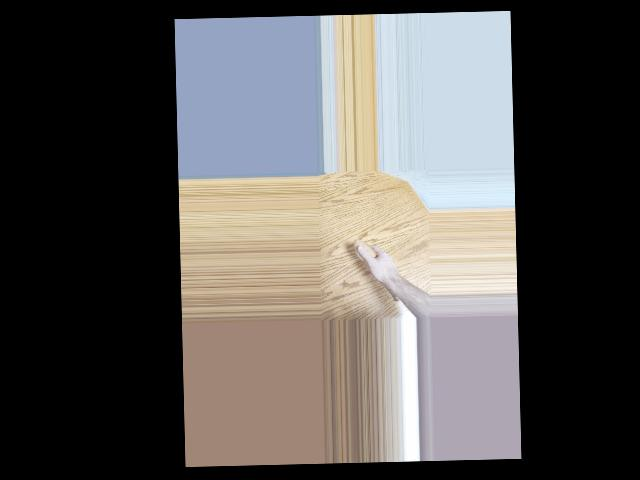sweet_potato: (353, 237, 404, 305)
